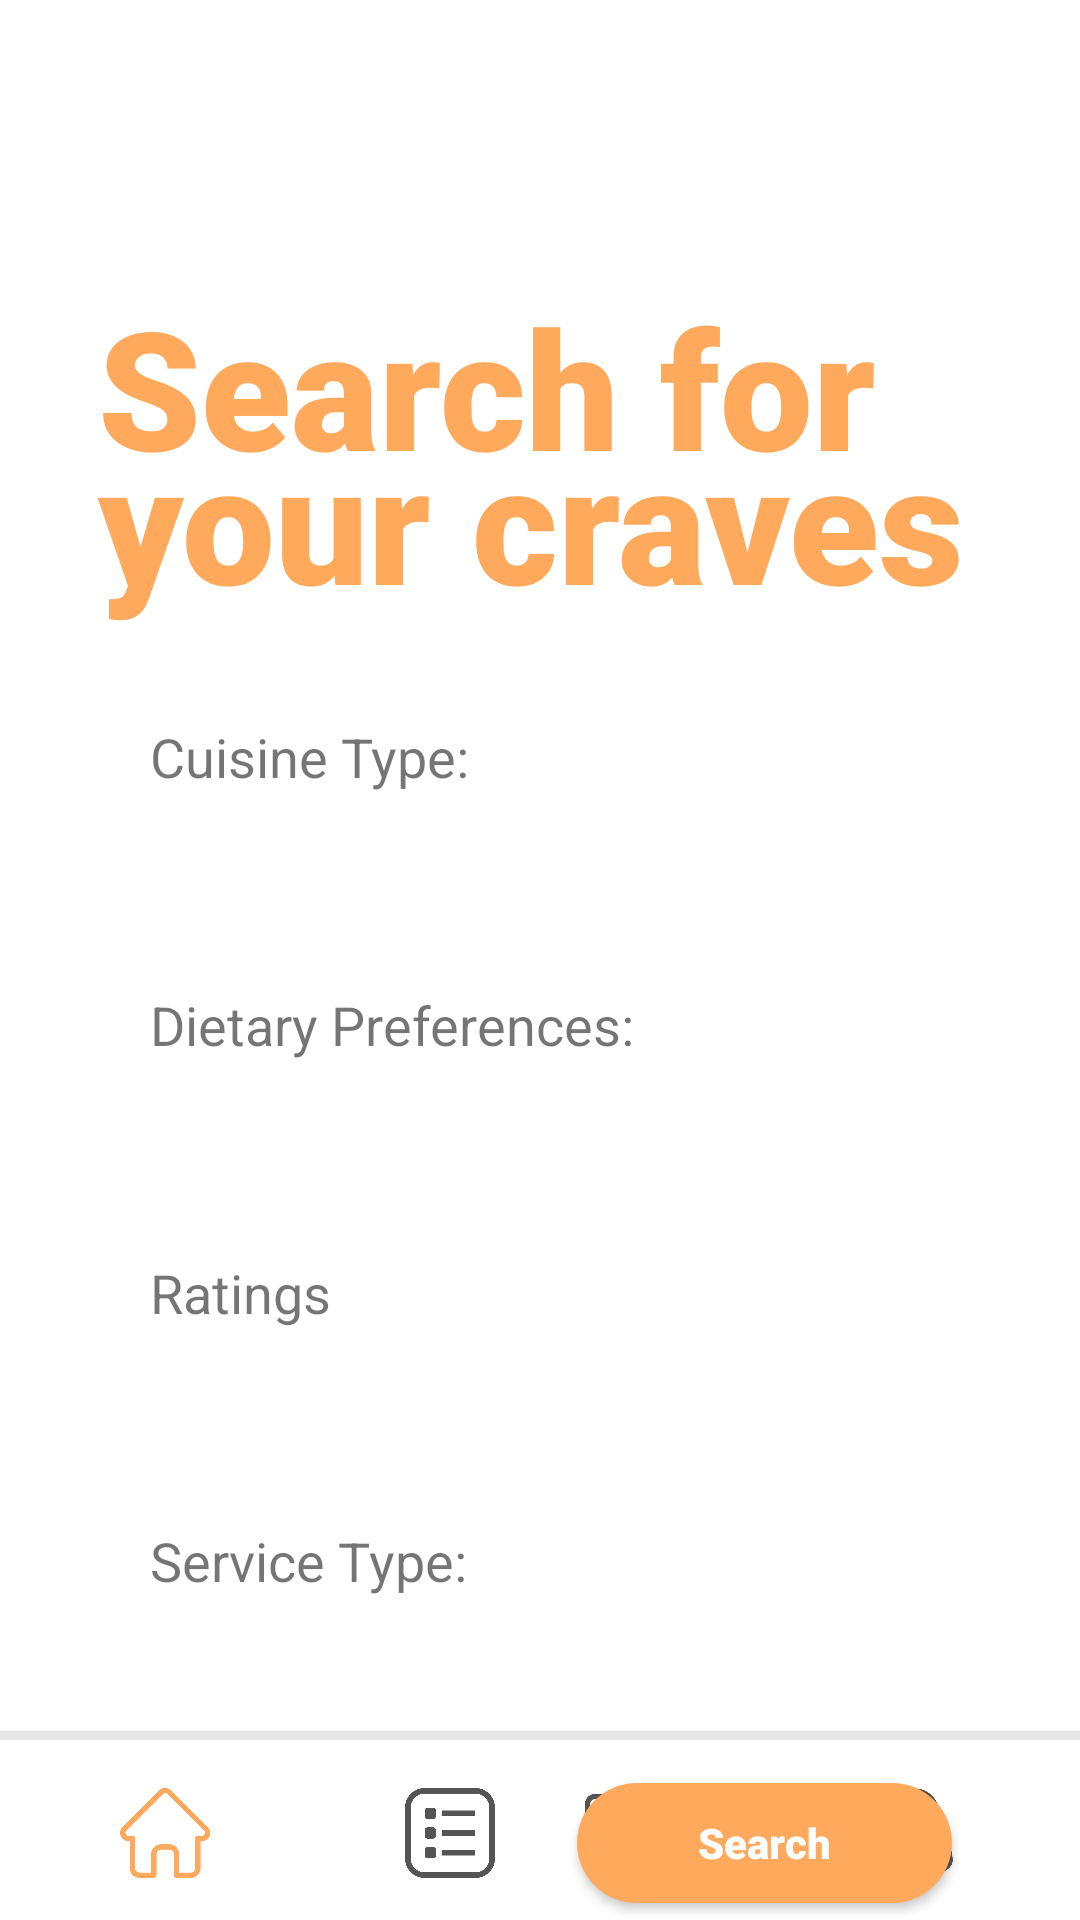

Icons on this 1080*1920 Android screen, each with the point to tap as (x=x, y=y):
list: (x=450, y=1833)
